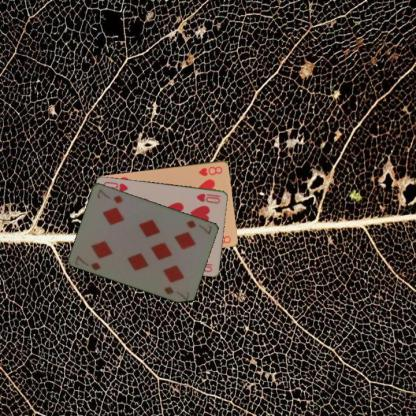10h: (194, 190, 222, 204)
7d: (184, 217, 214, 236), (72, 253, 102, 272)
8h: (196, 164, 223, 178)
